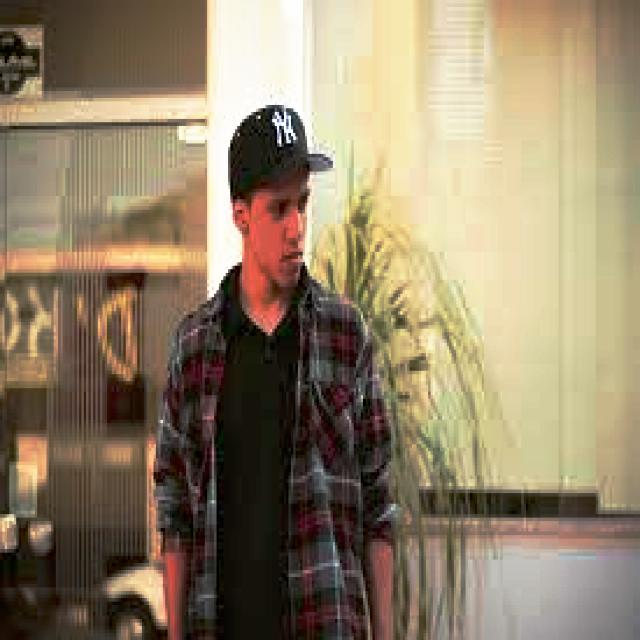TOPI: (223, 95, 333, 206)
